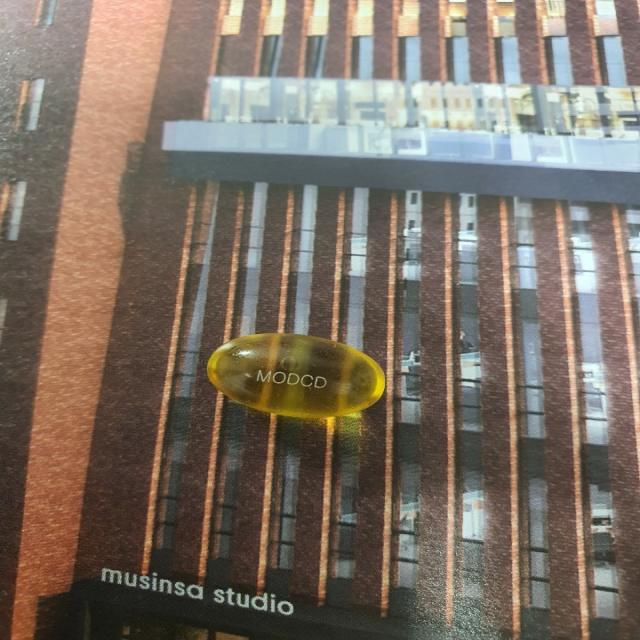pill: (202, 316, 396, 438)
